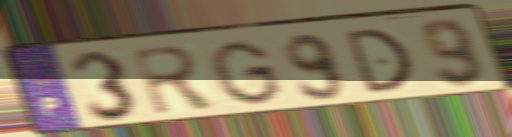3: (70, 49, 141, 124)
9: (419, 16, 488, 90), (280, 31, 348, 102)
D: (340, 26, 417, 97)
G: (206, 39, 286, 107)
R: (128, 43, 223, 119)
